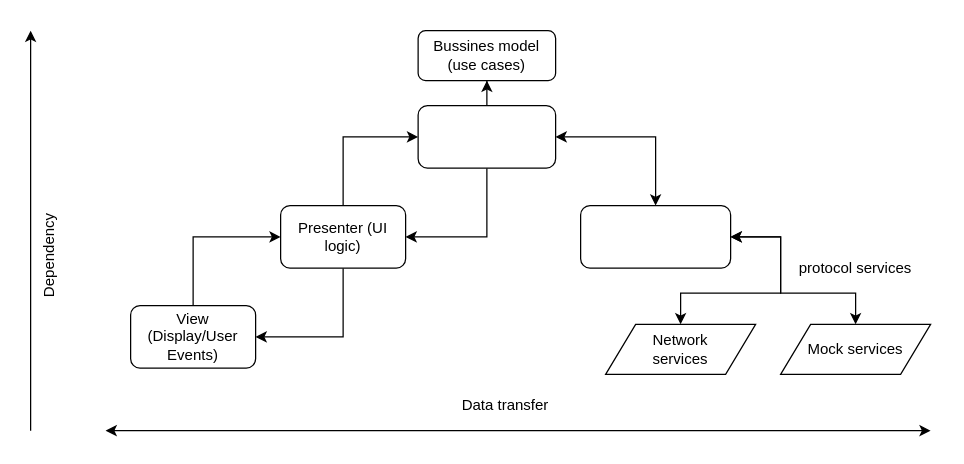
This 964x464 diagram has some shape labels left out. The shapes that lost their labels are listed below. From the top down, each one's box as (x1, y1, x2, y2) in pixels, then its label:
(417, 104, 556, 168): Interactor (Bussines logic)
(579, 204, 731, 268): Repository (Repository logic)
